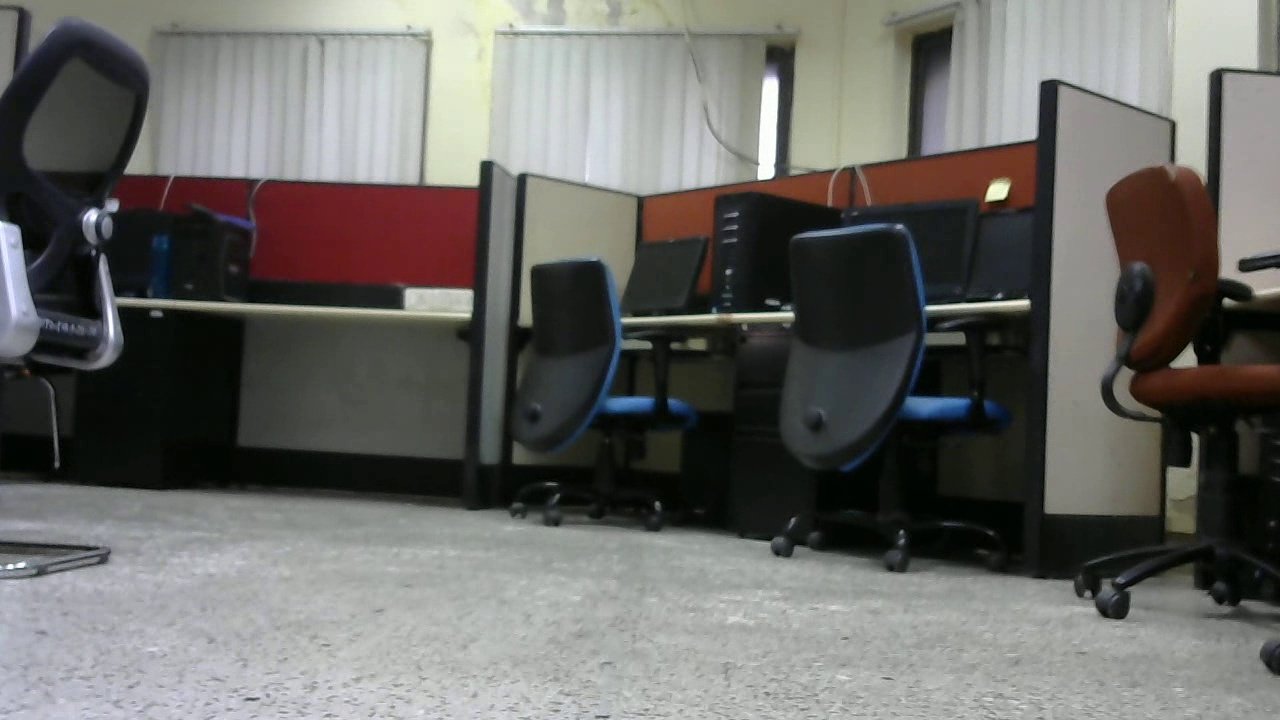chair: (1064, 155, 1280, 617), (3, 19, 181, 578), (741, 220, 1023, 572), (500, 247, 701, 533)
